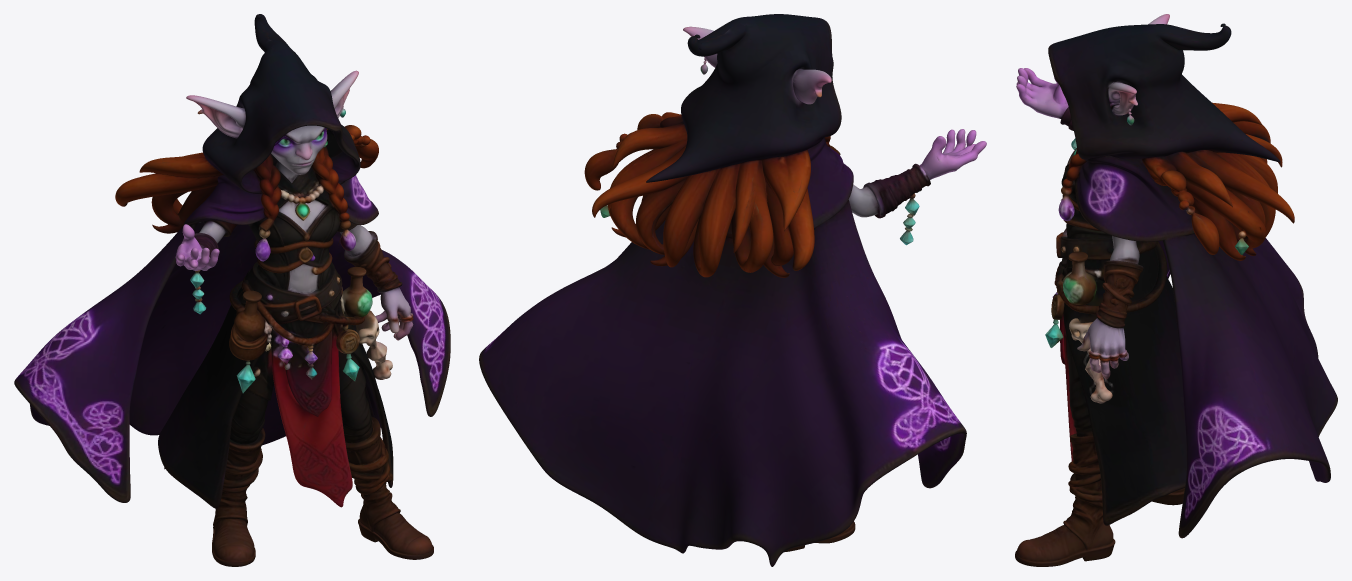
File: halfling_warlock_full_female_01.glb
3 views of the same model, side by side, from view 1: azimuth 30°, elevation 25°; view 2: azimuth 150°, elevation 25°; view 3: azimuth 270°, elevation 25° (orthographic). The views are drawn at different scales.
Visible parts, largest first — view 1: material; view 2: material; view 3: material.
Part boxes in pixels (left/top/right/bottom): material: left=14, top=14, right=450, bottom=566; material: left=479, top=14, right=986, bottom=566; material: left=1015, top=14, right=1337, bottom=566.
Size of the model in its own units: 0.909 by 0.9848 by 0.5732.
1 material, 1 textured.
